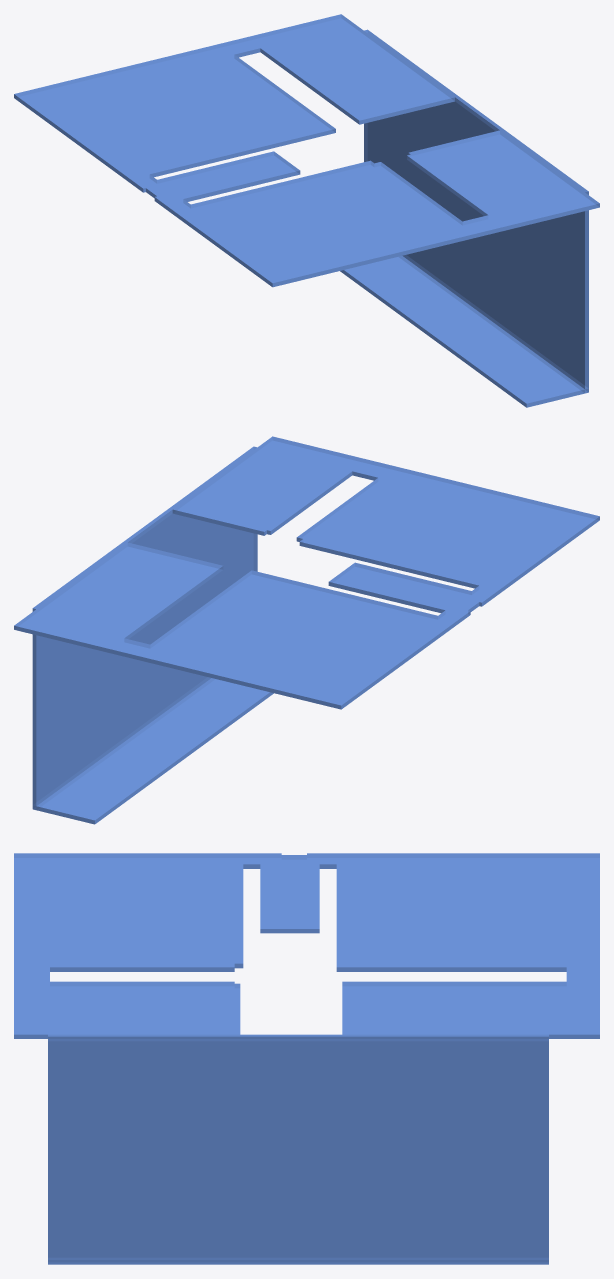
The picture shows the model from 3 angles, top to bottom: view 1: azimuth 30°, elevation 25°; view 2: azimuth 150°, elevation 25°; view 3: azimuth 270°, elevation 25°; orthographic projection. The views are drawn at different scales.
Visible parts, largest first — view 1: Mesh1 boxalas1 Model; view 2: Mesh1 boxalas1 Model; view 3: Mesh1 boxalas1 Model.
Boxes of the visible parts, x1,y1,x2,y2 form: Mesh1 boxalas1 Model: (14, 14, 599, 407); Mesh1 boxalas1 Model: (14, 436, 599, 824); Mesh1 boxalas1 Model: (14, 853, 599, 1264).
Size of the model in its own units: 25.52 by 14.8 by 34.5.
